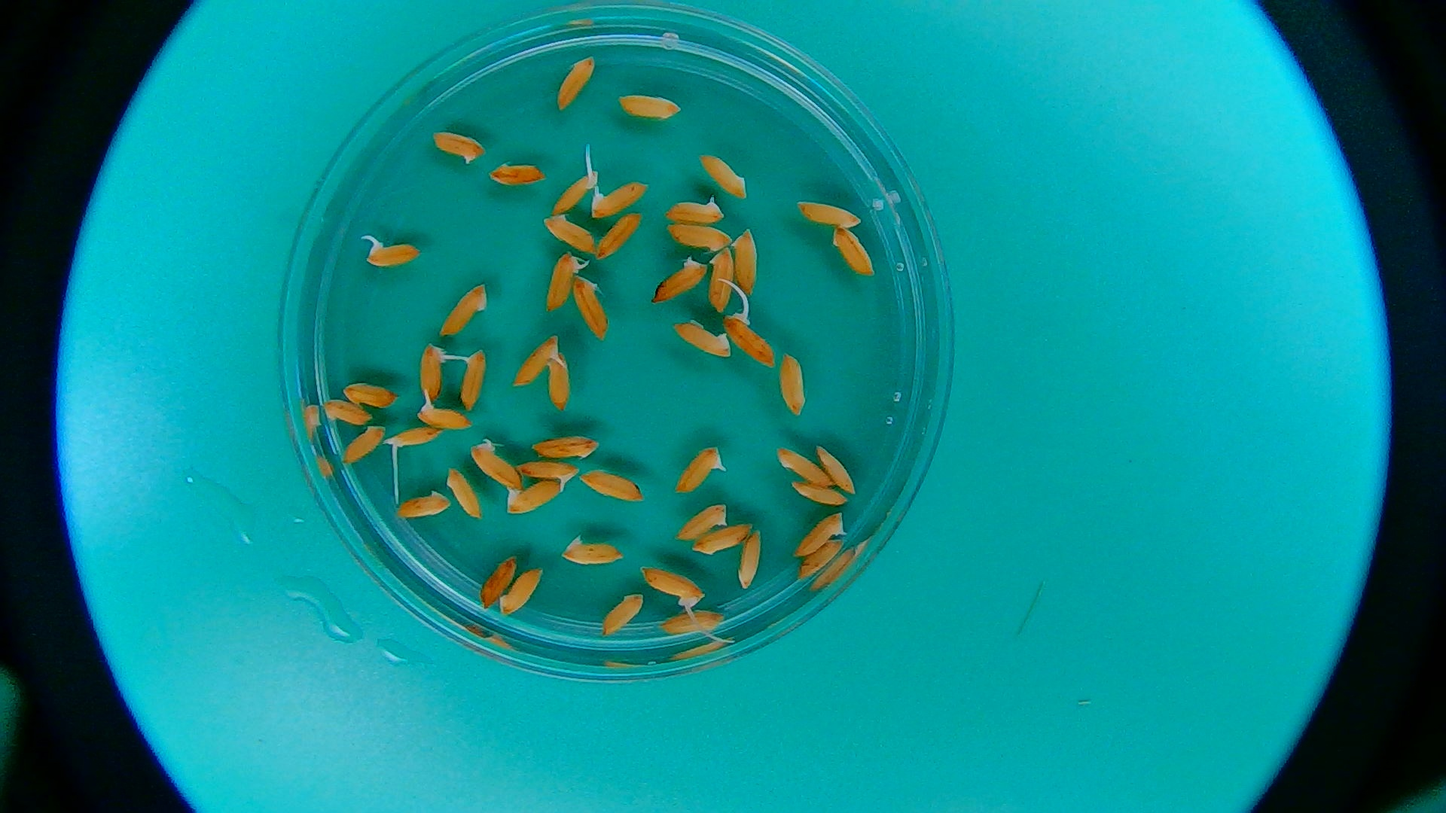no: (433, 279, 496, 340), (649, 253, 709, 310), (568, 270, 612, 343), (773, 443, 837, 492), (694, 148, 754, 200), (670, 314, 732, 361), (470, 438, 523, 492), (672, 498, 731, 545), (496, 568, 549, 620), (595, 209, 645, 264), (599, 589, 649, 642), (815, 440, 859, 498), (793, 510, 847, 557), (431, 126, 490, 169), (829, 224, 877, 276), (579, 468, 646, 505), (555, 56, 599, 112), (615, 90, 685, 125), (732, 526, 767, 595), (500, 479, 565, 516), (777, 343, 809, 418), (792, 537, 846, 581), (559, 532, 625, 567), (445, 465, 485, 522), (731, 227, 763, 298), (478, 553, 517, 611), (337, 421, 386, 467), (539, 215, 596, 254), (785, 477, 850, 511), (529, 431, 599, 462), (690, 524, 752, 559), (797, 197, 862, 230), (663, 220, 732, 251), (659, 607, 729, 637), (395, 489, 452, 523), (664, 194, 726, 225), (487, 157, 548, 188), (706, 244, 731, 314), (543, 352, 572, 411), (340, 382, 400, 410), (320, 395, 374, 425)
yes: (668, 441, 731, 498), (544, 249, 590, 316), (510, 333, 563, 390), (587, 180, 652, 225), (639, 566, 705, 609), (416, 389, 477, 433), (723, 318, 775, 369), (548, 168, 599, 217), (512, 459, 581, 492), (416, 340, 451, 405), (455, 344, 486, 415), (357, 241, 419, 270), (386, 427, 448, 454)
